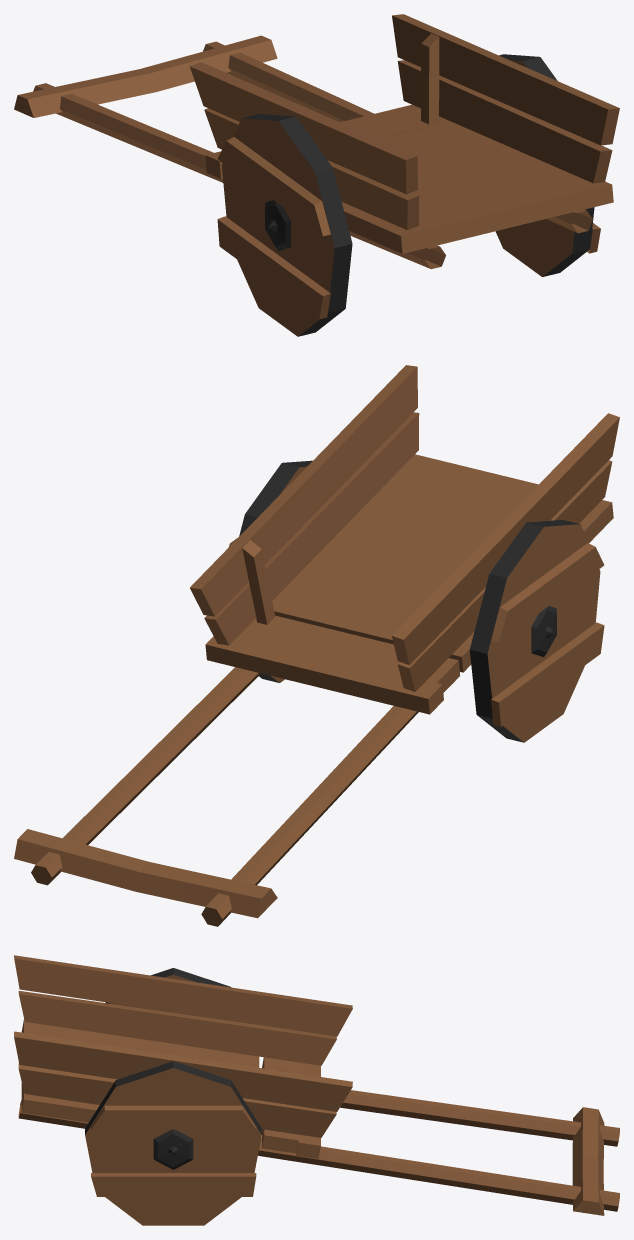
Rendered from medieval_carriage.fbx.
3 renders of one model, top to bottom at view 1: azimuth 30°, elevation 25°; view 2: azimuth 150°, elevation 25°; view 3: azimuth 270°, elevation 25°, orthographic. The views are drawn at different scales.
Parts seen in each view (by area): view 1: carriage_base, carriage_wheels; view 2: carriage_base, carriage_wheels; view 3: carriage_base, carriage_wheels.
Boxes of the visible parts, x1=… form: carriage_base: x1=14, y1=14, x2=619, y2=269; carriage_wheels: x1=217, y1=54, x2=600, y2=336; carriage_base: x1=14, y1=365, x2=619, y2=926; carriage_wheels: x1=229, y1=460, x2=604, y2=742; carriage_base: x1=14, y1=955, x2=619, y2=1215; carriage_wheels: x1=85, y1=968, x2=261, y2=1225.
Bounding box in the file's own units: 84.12 × 66.39 × 200.
